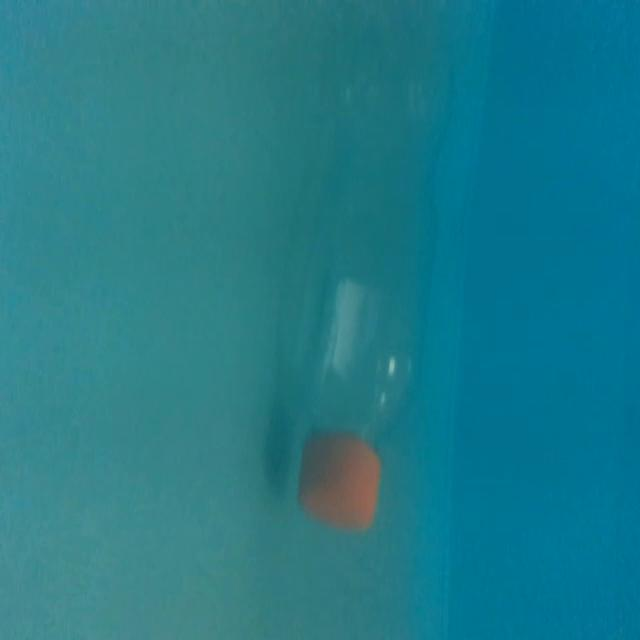plastic bottle: (287, 6, 477, 568)
